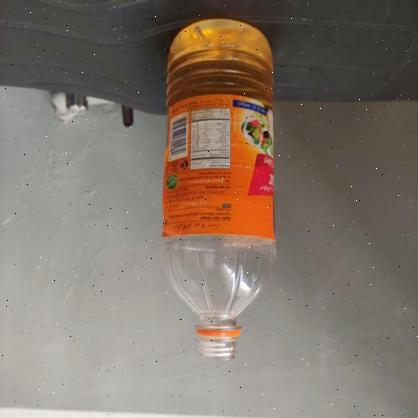bottle: (148, 16, 284, 360)
label: (156, 92, 279, 240)
